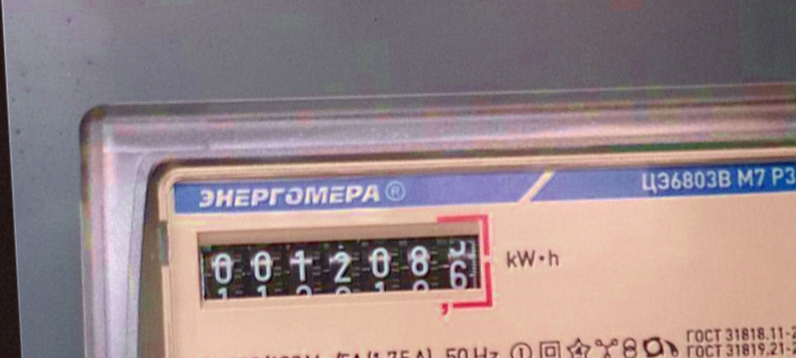0: (367, 243, 394, 280), (250, 246, 275, 284), (212, 248, 234, 286)
1: (291, 246, 310, 284)
2: (328, 248, 356, 285)
6: (446, 255, 471, 291)
8: (406, 242, 431, 279)
screen: (185, 203, 504, 339)
